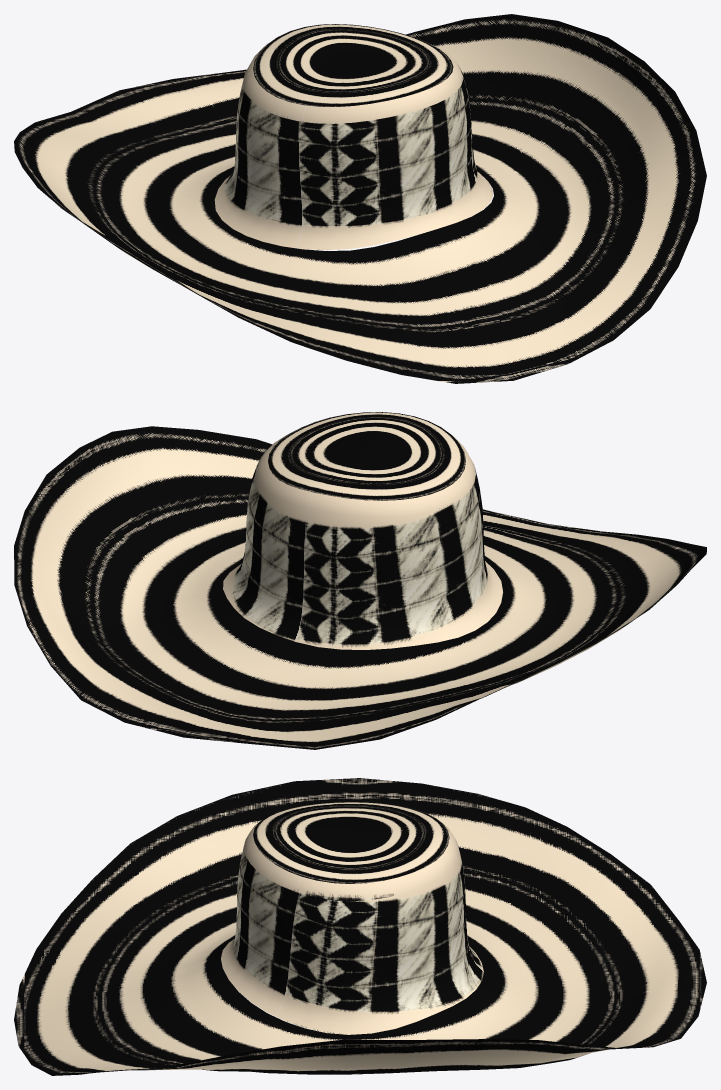
Rendered from sombrero.FBX.
The picture shows the model from 3 angles, top to bottom: view 1: azimuth 30°, elevation 25°; view 2: azimuth 150°, elevation 25°; view 3: azimuth 270°, elevation 25°; orthographic projection. The views are drawn at different scales.
Visible parts, largest first — view 1: Cylinder001, Object001; view 2: Cylinder001, Object001; view 3: Cylinder001, Object001.
Boxes of the visible parts, x1,y1,x2,y2 form: Cylinder001: [14, 14, 706, 383]; Object001: [214, 44, 492, 250]; Cylinder001: [14, 412, 706, 749]; Object001: [223, 435, 502, 649]; Cylinder001: [14, 778, 706, 1075]; Object001: [221, 823, 483, 1034].
Size of the model in its own units: 234 by 76.77 by 248.
